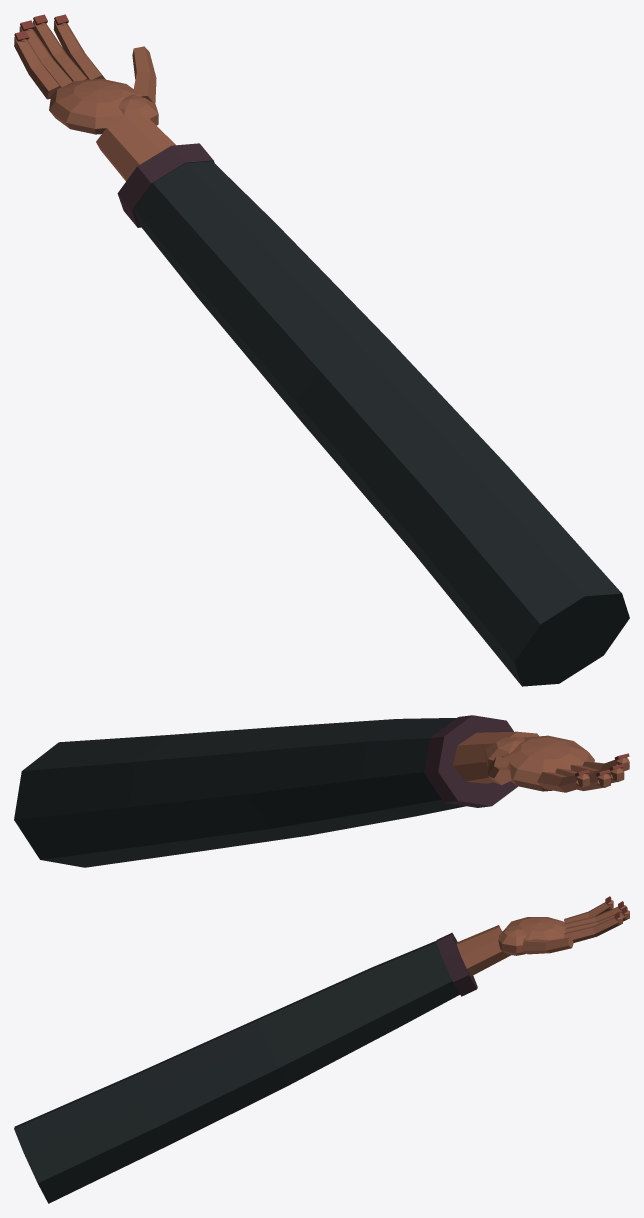
Rendered from mana_jucator.glb.
3 views of the same model, one above another, from view 1: azimuth 30°, elevation 25°; view 2: azimuth 210°, elevation 25°; view 3: azimuth 270°, elevation 25° (orthographic). The views are drawn at different scales.
Parts seen in each view (by area): view 1: Mana; view 2: Mana; view 3: Mana.
Boxes of the visible parts, <box> form: Mana: <box>14,14,629,686</box>; Mana: <box>14,715,629,867</box>; Mana: <box>14,896,629,1203</box>.
Bounding box in the file's own units: 0.23 × 0.4072 × 0.8706.
